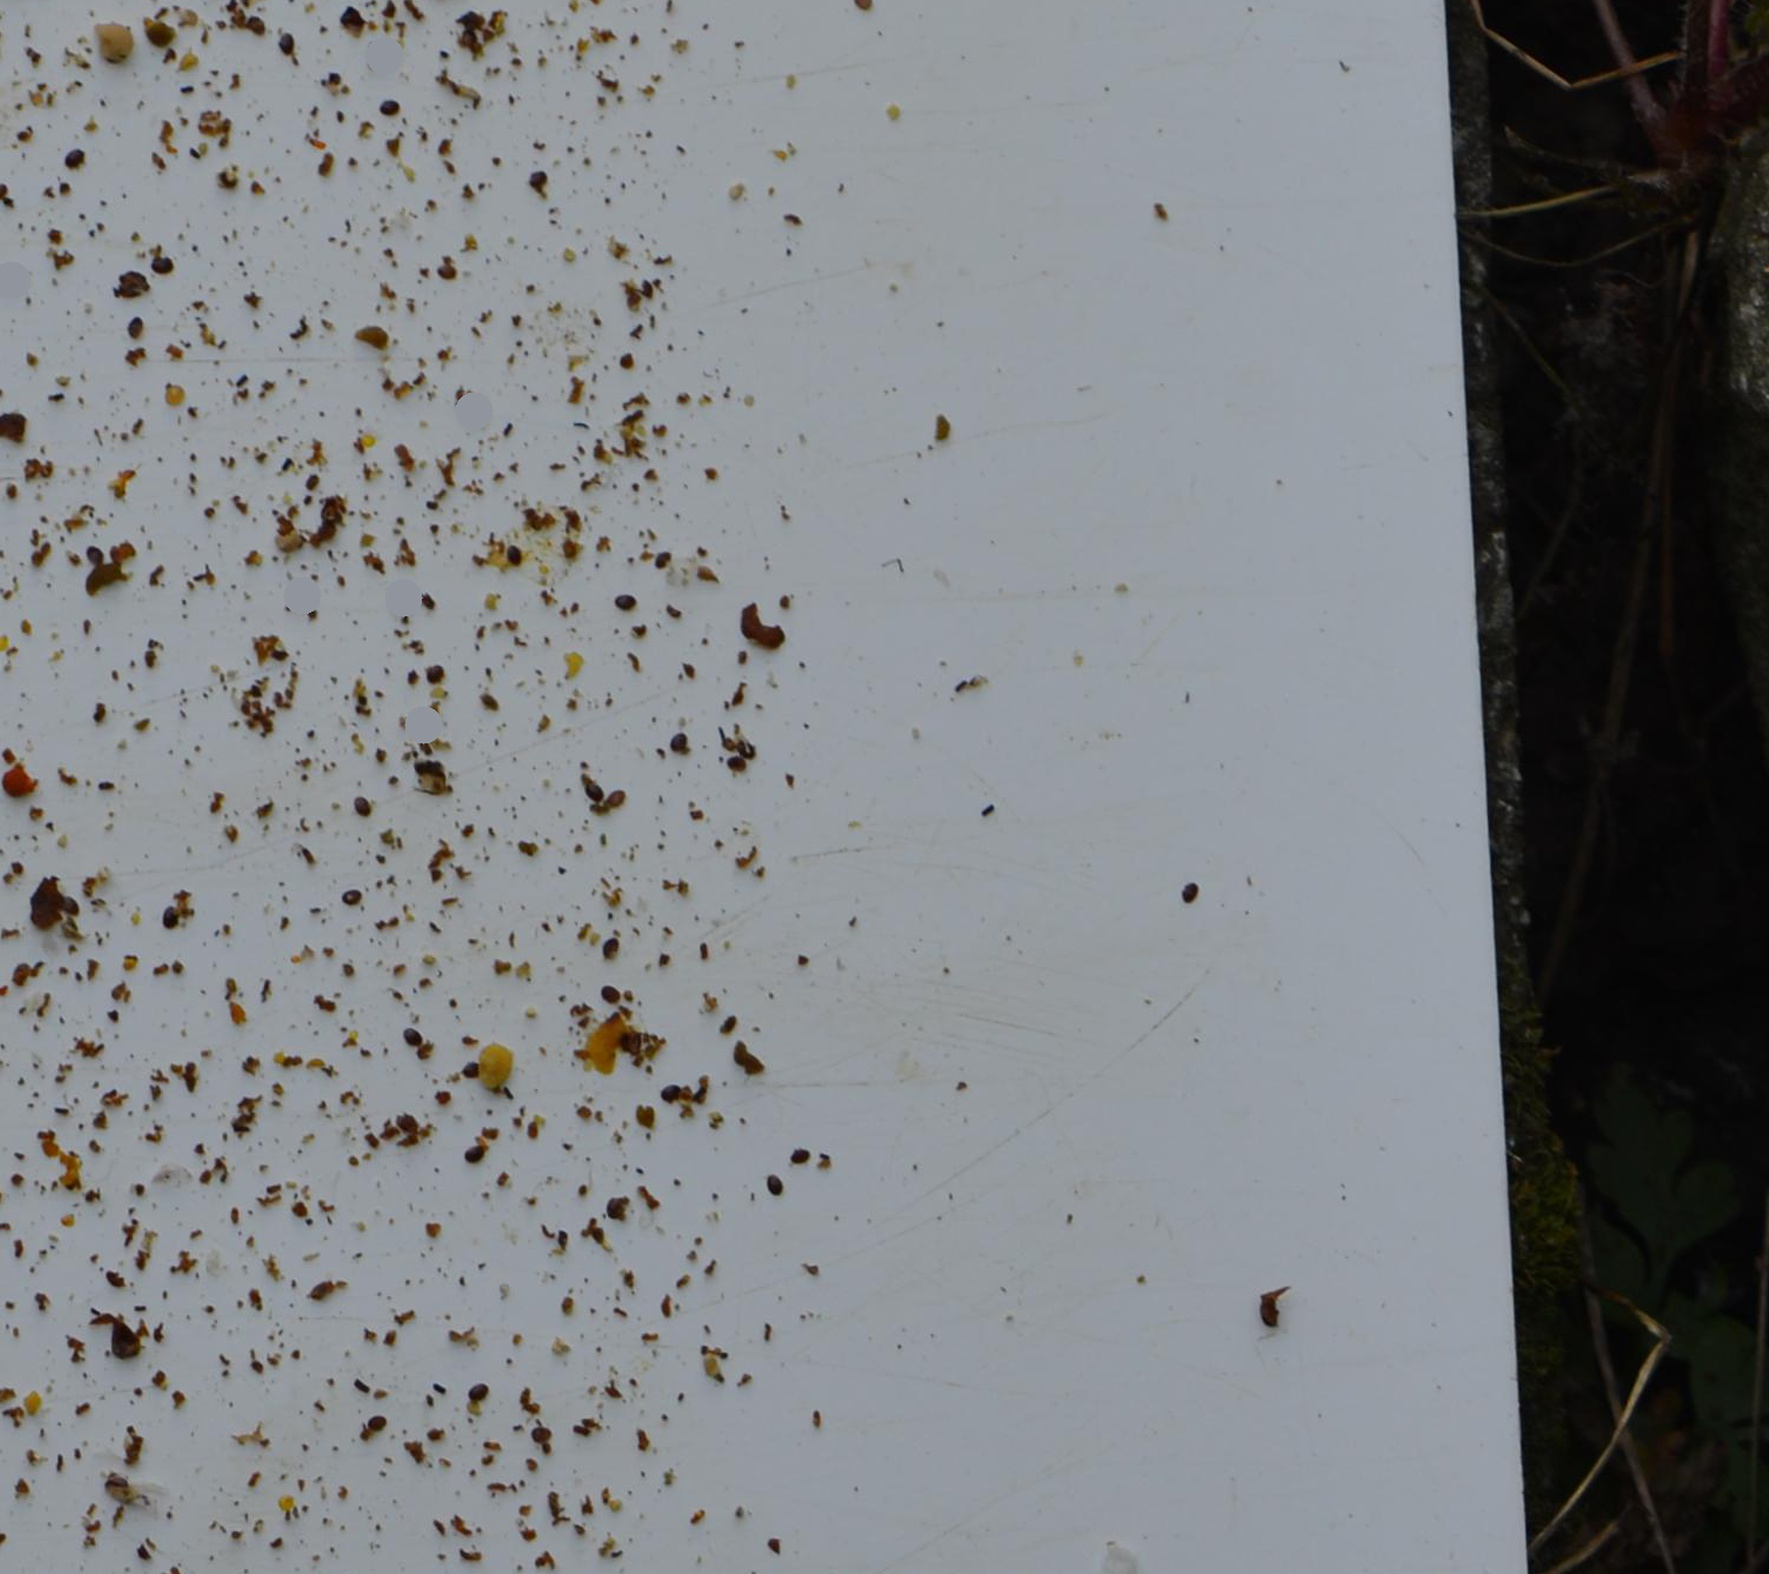Varroa: (47, 883, 88, 924), (93, 1256, 134, 1297), (1173, 878, 1201, 907), (657, 1095, 682, 1124), (465, 1380, 492, 1405), (599, 983, 623, 1009), (350, 795, 375, 819), (667, 738, 691, 764), (422, 662, 447, 688), (530, 1427, 555, 1452), (758, 1174, 783, 1200), (343, 887, 368, 913), (664, 1079, 688, 1105), (407, 1030, 432, 1054), (597, 934, 622, 959), (380, 99, 404, 123), (792, 1144, 816, 1168), (460, 1144, 485, 1168), (271, 30, 295, 55), (597, 787, 622, 811), (436, 258, 460, 283), (608, 1197, 631, 1223), (62, 147, 85, 172), (365, 1411, 388, 1436), (160, 909, 182, 933), (123, 318, 146, 342), (502, 541, 524, 564), (652, 548, 675, 571), (84, 547, 106, 570), (157, 251, 178, 275), (729, 746, 751, 770), (611, 593, 634, 614), (248, 18, 269, 40)
